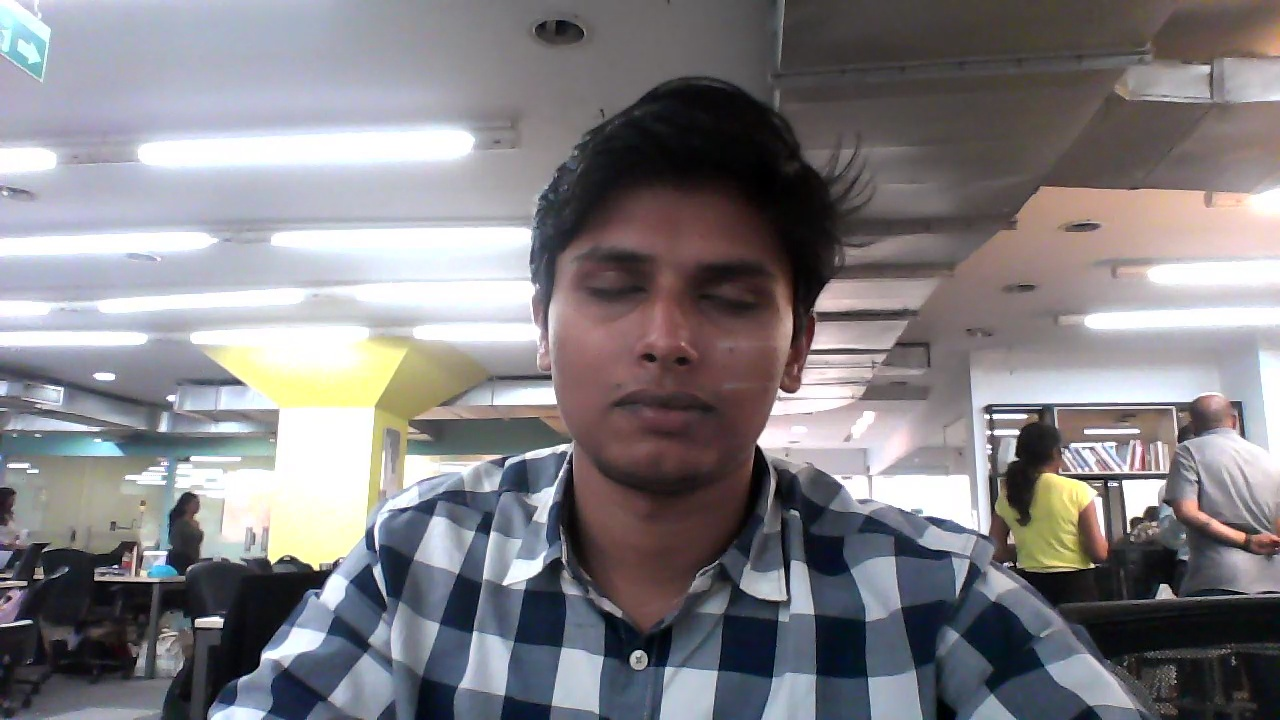closed: (526, 82, 828, 501)
